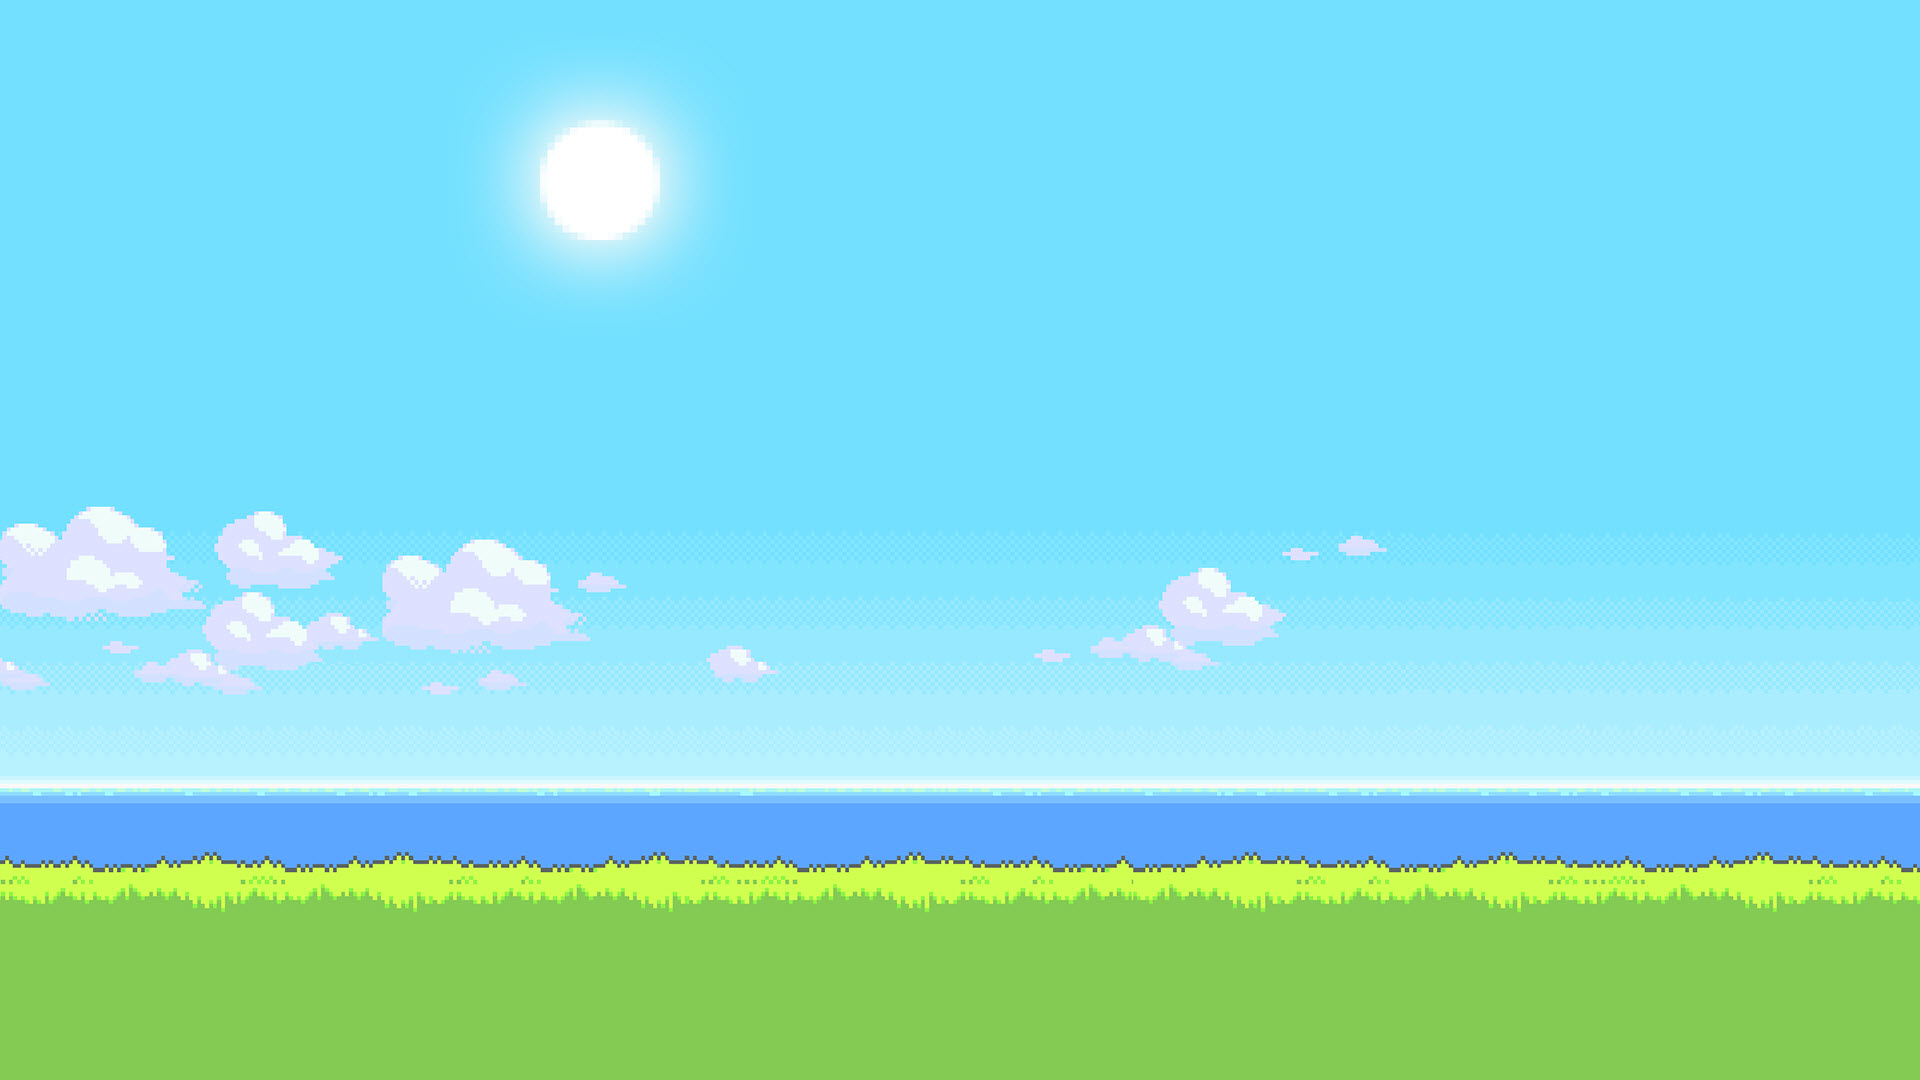beemonster: (378, 193, 410, 228), (1415, 185, 1447, 220), (447, 193, 477, 228)
character: (75, 791, 144, 861)
door: (1617, 123, 1688, 214)
flymonster: (1266, 600, 1298, 636), (1004, 691, 1035, 727), (1047, 695, 1079, 731)
ground: (240, 779, 582, 873), (691, 735, 910, 872)
ground_empty: (7, 870, 1913, 1079)
ground_grass: (884, 413, 1469, 464), (65, 454, 647, 502), (1406, 644, 1851, 683), (659, 245, 876, 305), (1563, 222, 1778, 266), (1689, 407, 1861, 462)
health_buff: (1547, 454, 1563, 480), (767, 419, 785, 442)
littlemonster: (583, 348, 615, 382), (1412, 589, 1443, 625), (1425, 367, 1456, 402)
monster: (1767, 597, 1801, 634), (1290, 371, 1323, 407), (786, 688, 818, 724), (1331, 818, 1362, 852), (1691, 589, 1722, 624)
smallmonster: (1114, 771, 1174, 822), (798, 166, 835, 216), (310, 360, 342, 396), (955, 800, 986, 836), (1178, 372, 1208, 407), (418, 365, 448, 400)
window: (11, 190, 661, 1080)
